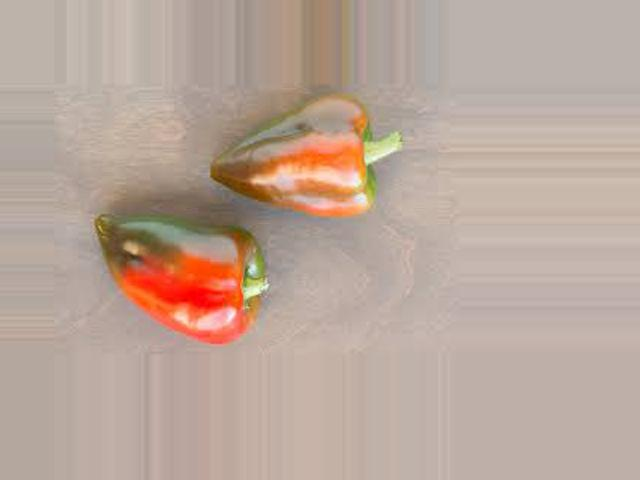bell_pepper: (83, 205, 330, 349)
